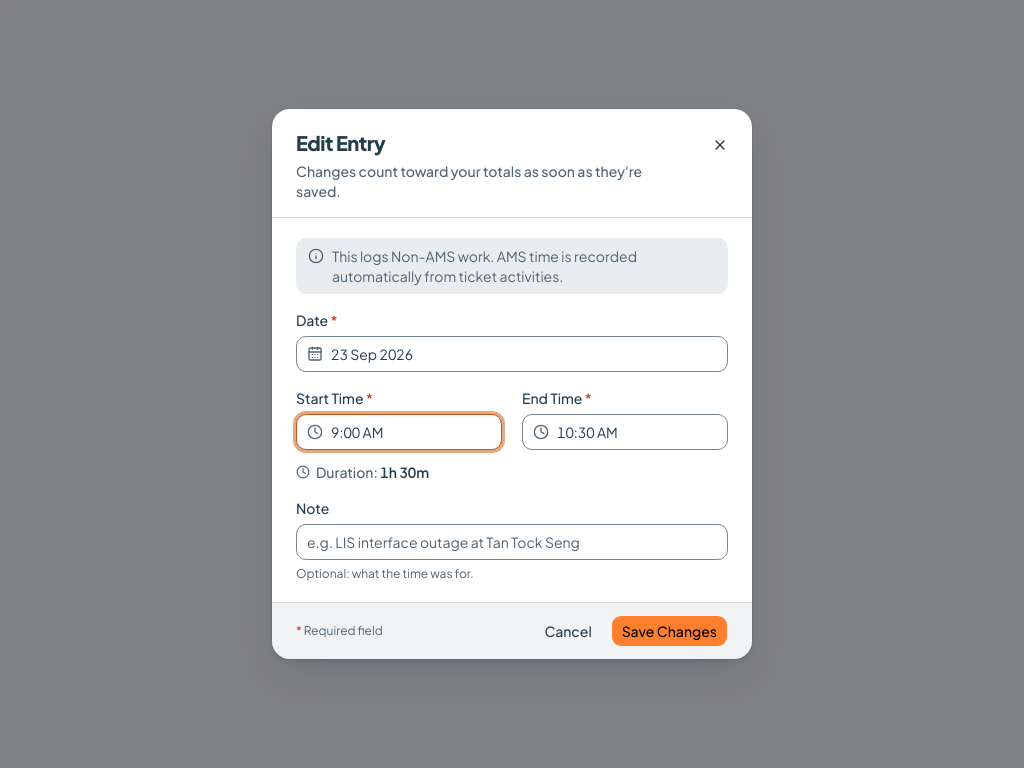
LogHoursDialog saving › keeps the form open with a retry hint when the server can't be reached
Click the button "Save Changes" at point(669, 631), box [611, 615, 728, 647]
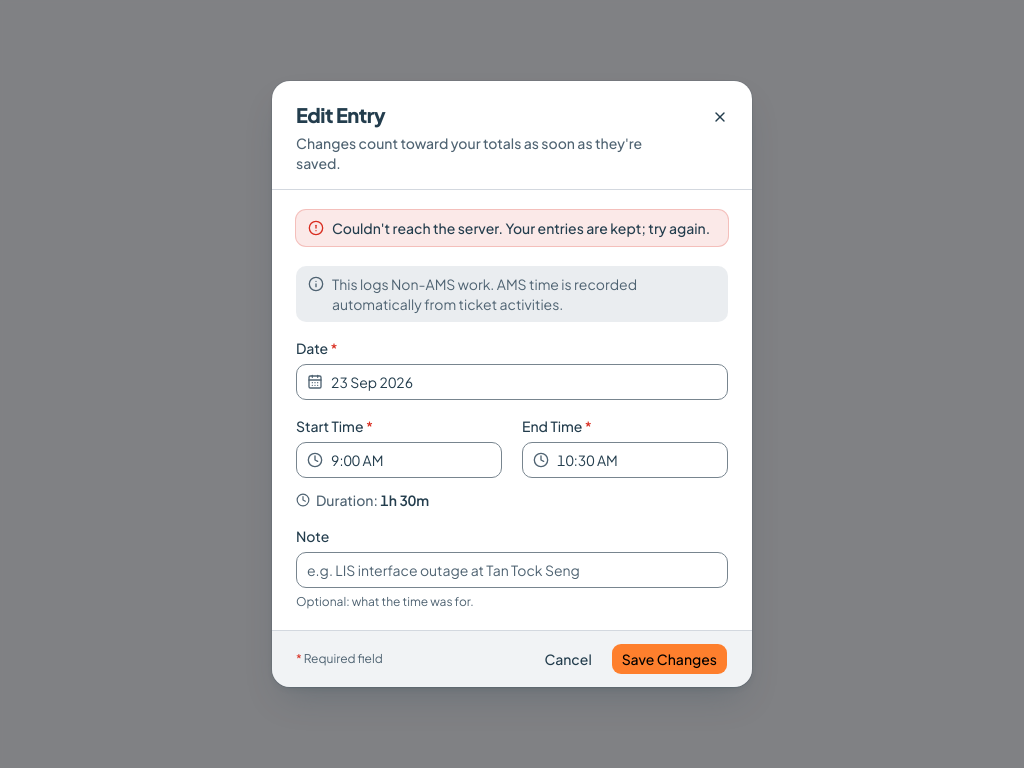
Expected: the message reads "Couldn't reach the server. Your entries are kept; try again.", [332, 219, 710, 237]
